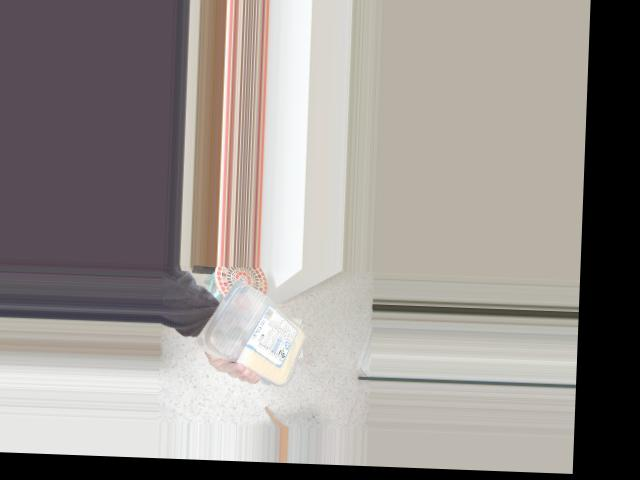cheese: (209, 282, 311, 373)
